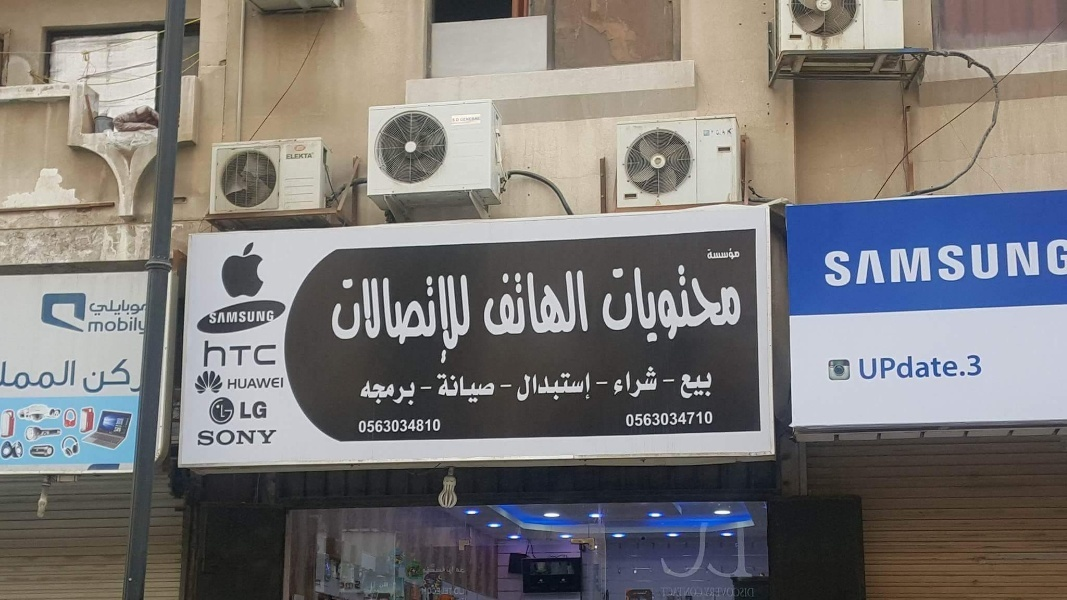text: (337, 272, 352, 365), (353, 272, 368, 365), (369, 272, 384, 365), (385, 272, 400, 365), (401, 272, 416, 365), (417, 272, 432, 365), (433, 272, 448, 365), (449, 272, 464, 365), (609, 265, 624, 344), (625, 265, 640, 344), (641, 265, 656, 344), (657, 265, 672, 344), (673, 265, 688, 344), (689, 265, 704, 344), (705, 265, 720, 344), (721, 265, 736, 344), (497, 269, 512, 338), (513, 269, 528, 338), (529, 269, 544, 338), (545, 269, 560, 338), (561, 269, 576, 338), (483, 269, 496, 338), (577, 269, 590, 338), (833, 236, 848, 290), (849, 236, 864, 290), (865, 236, 880, 290), (881, 236, 896, 290), (897, 236, 912, 290), (913, 236, 928, 290), (929, 236, 944, 290), (945, 236, 960, 290), (961, 236, 976, 290), (977, 236, 992, 290), (993, 236, 1008, 290), (1009, 236, 1024, 290), (1025, 236, 1040, 290), (1041, 236, 1056, 290), (465, 272, 473, 365), (600, 265, 608, 344), (1057, 236, 1067, 290), (81, 359, 96, 394), (97, 359, 112, 394), (113, 359, 128, 394), (481, 373, 497, 405), (625, 365, 640, 399), (641, 365, 656, 399), (17, 359, 32, 392), (33, 359, 48, 392), (49, 359, 64, 392), (449, 373, 464, 405), (465, 373, 480, 405), (529, 370, 544, 402), (545, 370, 560, 402), (561, 370, 576, 402), (737, 265, 743, 344), (65, 359, 79, 392), (689, 371, 704, 401), (577, 370, 591, 402), (824, 236, 832, 290), (401, 380, 417, 407), (3, 359, 16, 392), (209, 340, 224, 368), (225, 340, 240, 368), (241, 340, 256, 368), (257, 340, 272, 368), (369, 380, 384, 407), (385, 380, 400, 407), (865, 354, 880, 381), (881, 354, 896, 381), (897, 354, 912, 381), (913, 354, 928, 381), (929, 354, 944, 381), (945, 354, 960, 381), (961, 354, 976, 381), (332, 272, 336, 365), (437, 373, 448, 405), (614, 365, 624, 399), (241, 401, 256, 421), (209, 429, 224, 448), (225, 429, 240, 448), (241, 429, 256, 448), (257, 429, 272, 448), (97, 299, 112, 317), (113, 299, 128, 317), (257, 401, 270, 421), (520, 370, 528, 402), (369, 417, 384, 434), (385, 417, 400, 434), (401, 417, 416, 434), (417, 417, 432, 434), (359, 380, 368, 407), (680, 371, 688, 401), (705, 371, 713, 401), (209, 310, 224, 326), (225, 310, 240, 326), (241, 310, 256, 326), (257, 310, 272, 326), (97, 317, 112, 333), (113, 317, 128, 333), (721, 246, 736, 261), (625, 412, 640, 427), (641, 412, 656, 427), (657, 412, 672, 427), (673, 412, 688, 427), (689, 412, 704, 427), (706, 246, 720, 261), (673, 586, 688, 600), (689, 586, 704, 600), (705, 586, 720, 600), (721, 586, 736, 600), (737, 586, 752, 600), (129, 299, 140, 317), (241, 378, 256, 391), (257, 378, 272, 391), (198, 429, 208, 448), (977, 354, 984, 381), (358, 417, 368, 434), (433, 417, 443, 434), (660, 586, 672, 600), (228, 378, 240, 391), (705, 412, 715, 427), (129, 317, 138, 333), (273, 378, 284, 391), (859, 354, 864, 381), (289, 152, 304, 161), (88, 317, 96, 333), (499, 382, 512, 391), (273, 340, 277, 368), (90, 299, 96, 317), (595, 380, 608, 387), (465, 117, 480, 123), (205, 340, 208, 368), (420, 385, 432, 392), (305, 152, 314, 161), (661, 378, 672, 385), (273, 429, 277, 448), (452, 117, 464, 123), (129, 359, 131, 394), (657, 365, 659, 399), (737, 246, 741, 261), (273, 310, 276, 326), (753, 586, 756, 600), (673, 378, 678, 385), (285, 152, 288, 161), (609, 380, 611, 387), (433, 385, 435, 392), (513, 382, 514, 391), (481, 117, 482, 123)
